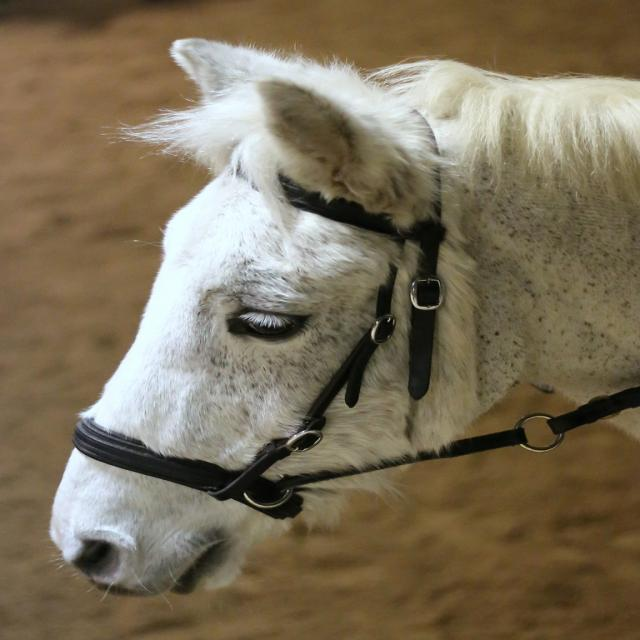Horse: (44, 35, 639, 594)
